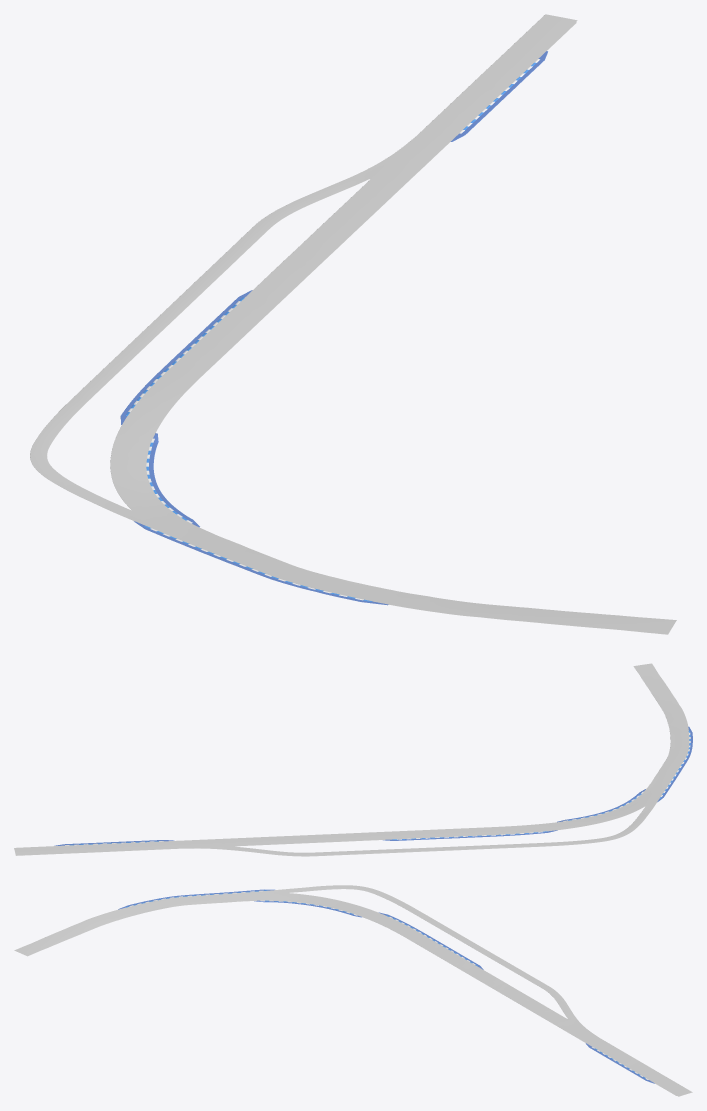
Rendered from track_road_sector3.dae.
3 views of the same model, one above another, from view 1: azimuth 30°, elevation 25°; view 2: azimuth 150°, elevation 25°; view 3: azimuth 270°, elevation 25° (orthographic). The views are drawn at different scales.
Visible parts, largest first — view 1: road_track_sector3_a6000; view 2: road_track_sector3_a6000; view 3: road_track_sector3_a6000.
Boxes of the visible parts, x1=… form: road_track_sector3_a6000: x1=30, y1=14, x2=676, y2=634; road_track_sector3_a6000: x1=14, y1=663, x2=692, y2=856; road_track_sector3_a6000: x1=14, y1=885, x2=692, y2=1096.
Size of the model in its own units: 305 by 414 by 5.07.
